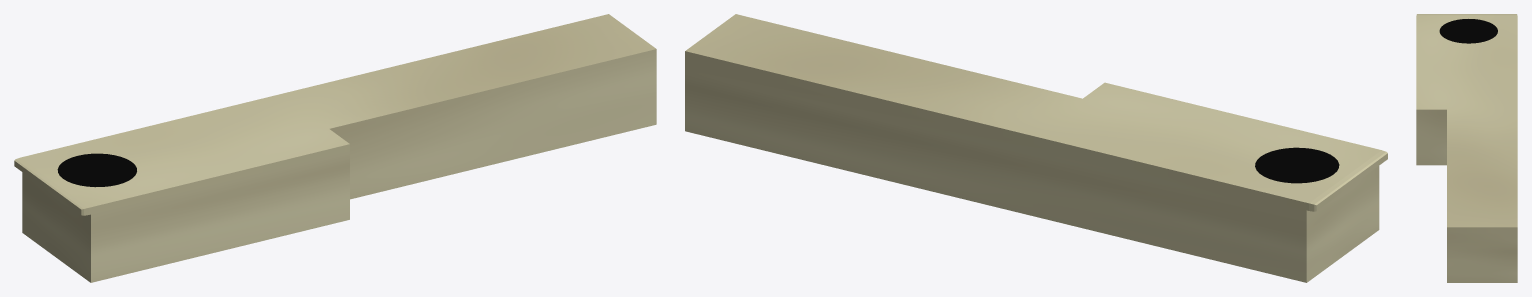
Rendered from C_key.obj.
3 renders of one model, left to right at view 1: azimuth 30°, elevation 25°; view 2: azimuth 150°, elevation 25°; view 3: azimuth 270°, elevation 25°, orthographic. The views are drawn at different scales.
Visible parts, largest first — view 1: C_key; view 2: C_key; view 3: C_key.
Part boxes in pixels (<box>): C_key: <box>14,14,656,282</box>; C_key: <box>685,14,1387,282</box>; C_key: <box>1416,14,1517,282</box>.
Size of what is drawn, in the model's own units: 17.27 by 2.12 by 3.45.
Materials: 2 (2 with a texture image).
